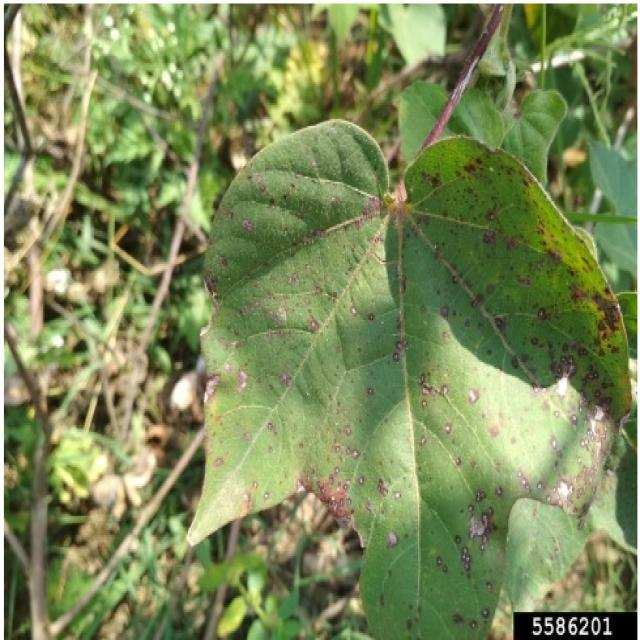Bacterial Blight: (429, 169, 620, 532)
